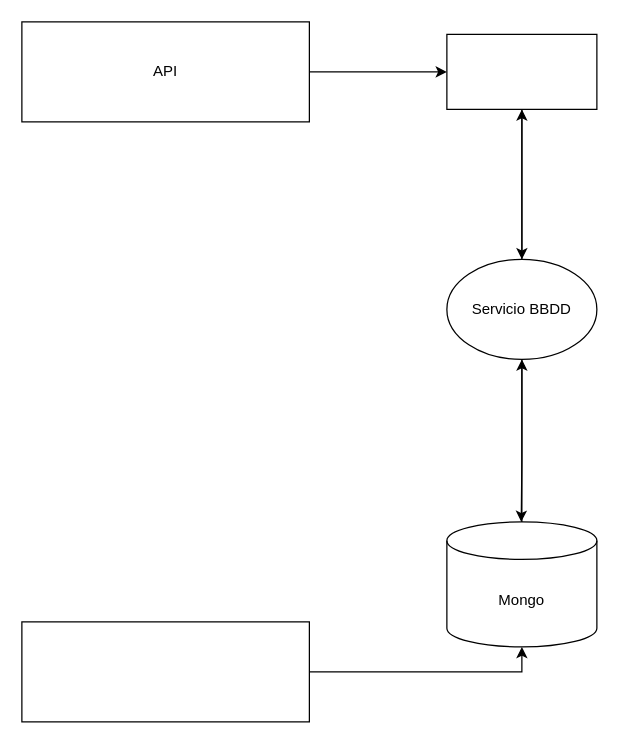
This 619x744 diagram has some shape labels left out. Each missing label, with the centre of its shape:
Controller: the point at 521,71
Scrapper: the point at 165,671
